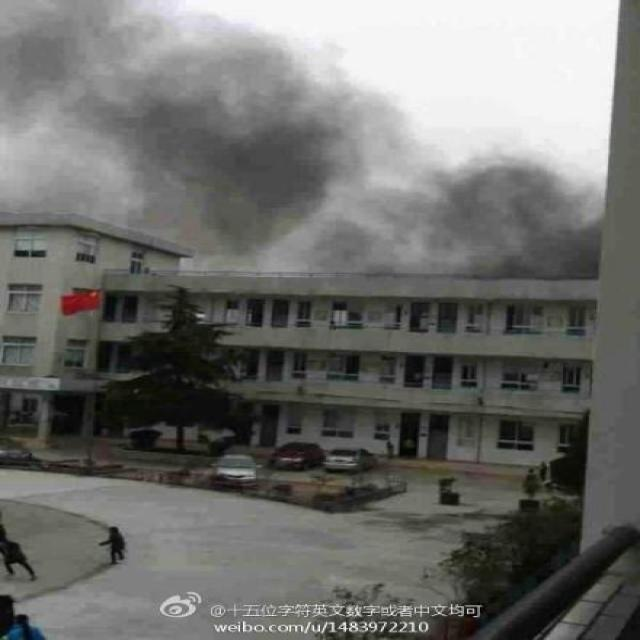Smoke: (0, 0, 608, 280)
